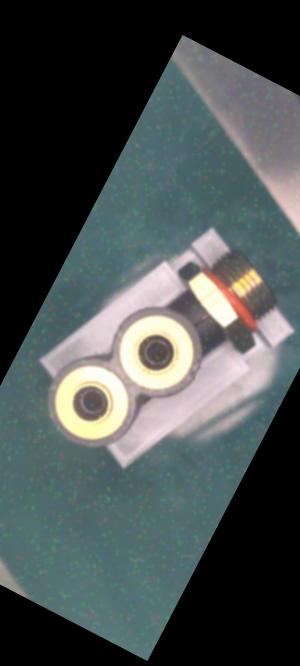craze: (191, 309, 211, 332)
